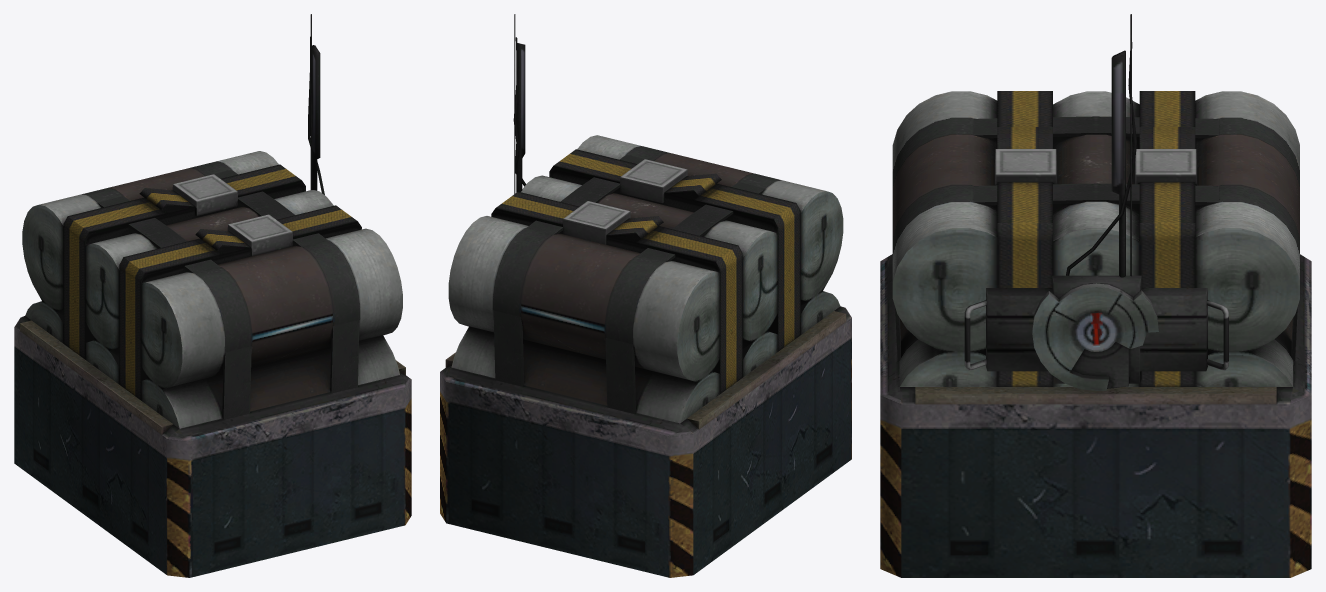
The model's file is Bomb02.FBX.
The picture shows the model from 3 angles, left to right: view 1: azimuth 30°, elevation 25°; view 2: azimuth 150°, elevation 25°; view 3: azimuth 270°, elevation 25°; orthographic projection. The views are drawn at different scales.
Visible parts, largest first — view 1: Bomb02; view 2: Bomb02; view 3: Bomb02.
Part boxes in pixels (<box>): Bomb02: <box>14,14,411,577</box>; Bomb02: <box>440,14,851,577</box>; Bomb02: <box>880,14,1311,577</box>.
Bounding box in the file's own units: 1.03 × 1.71 × 1.2.
